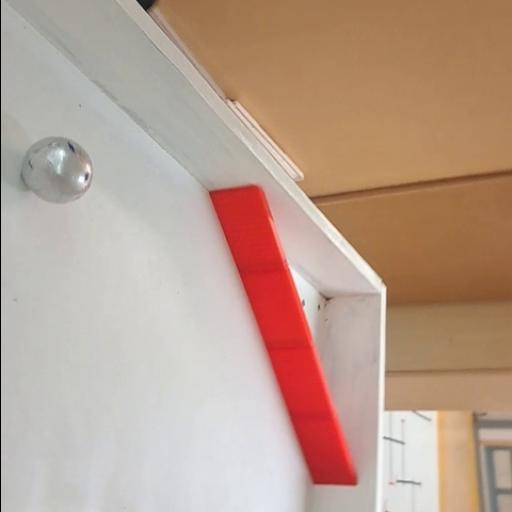alive: (19, 134, 93, 204)
